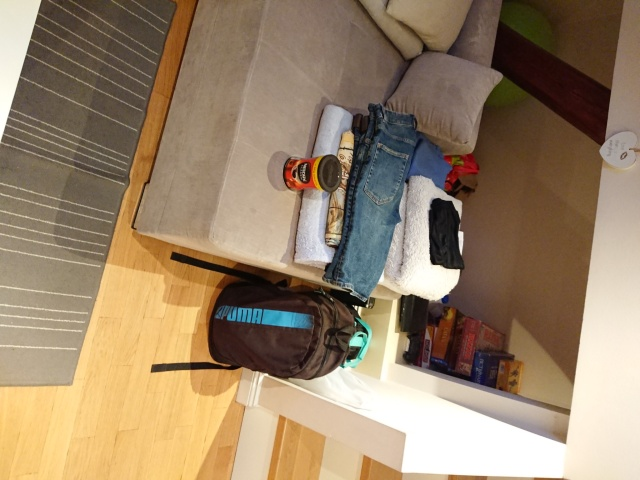Nescafe Classic 225g: (280, 152, 344, 195)
